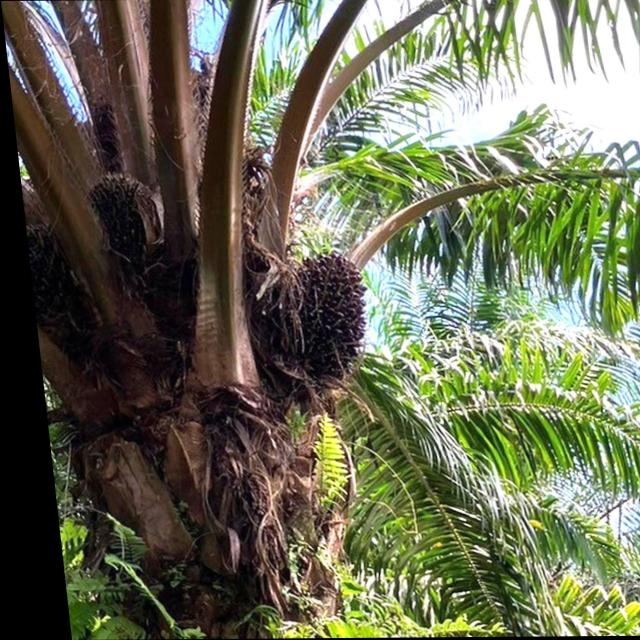ripe: (253, 242, 374, 387)
